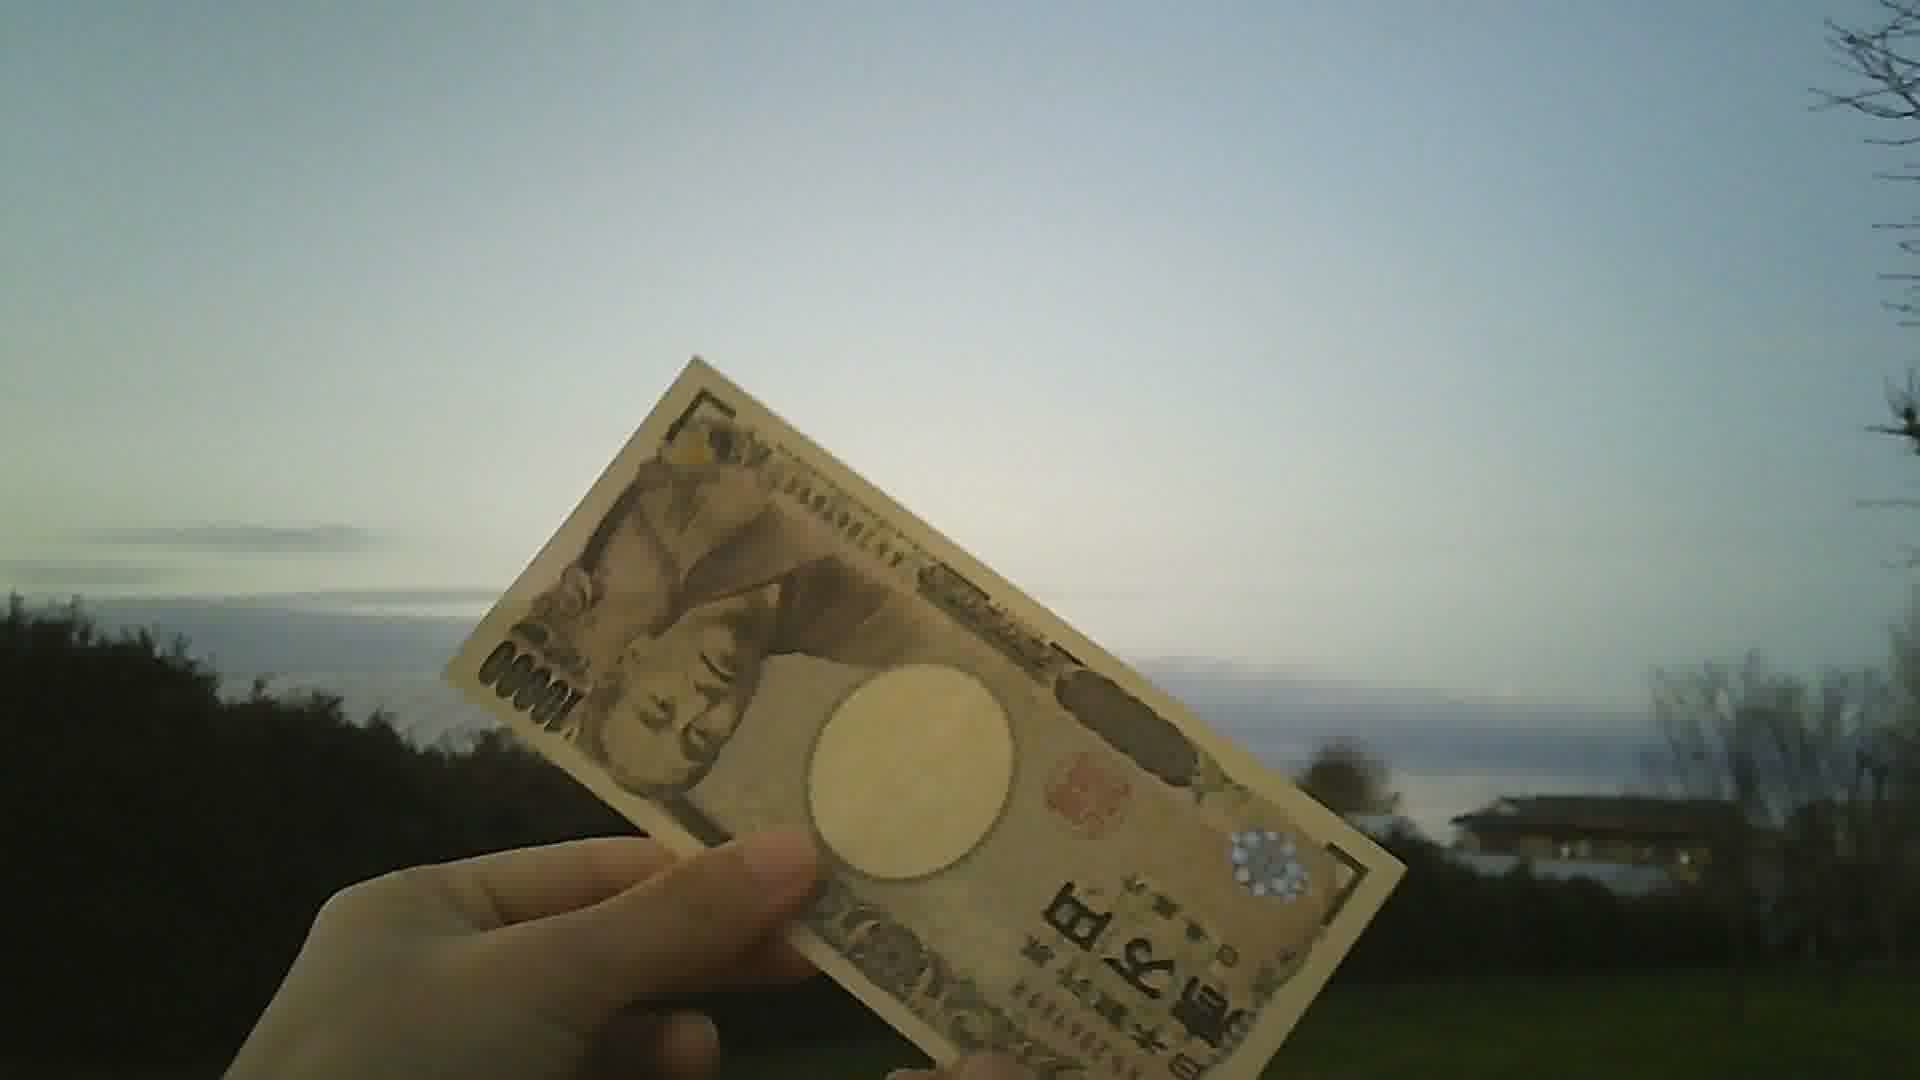10,000 Yen: (434, 327, 1420, 1079)
